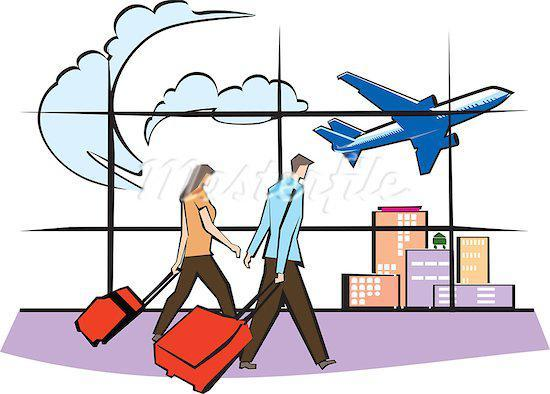aeroplane: (302, 51, 515, 181)
person: (242, 147, 333, 370), (152, 151, 239, 321)
